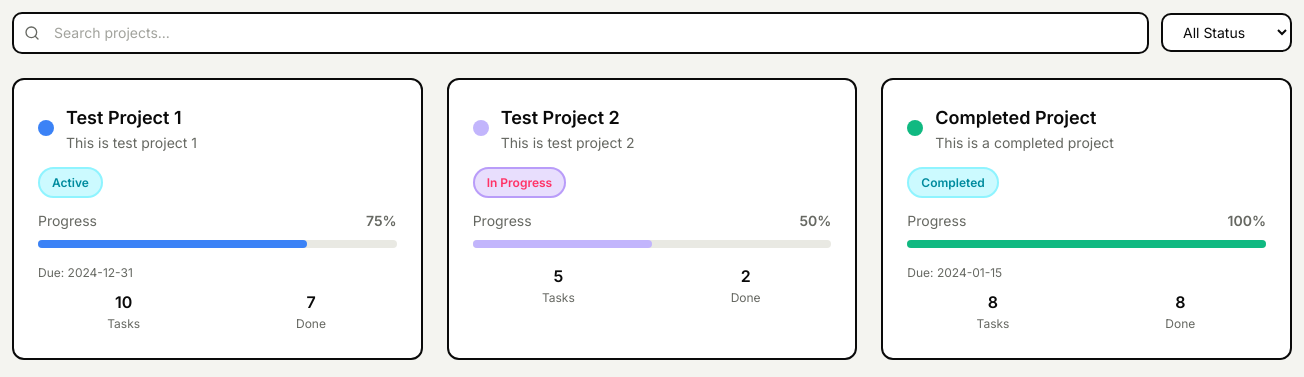
Scenario: ProjectsList Component › Status Filter › should filter projects by status when status filter changes
The width and height of the screenshot is (1304, 377).
Expected: the heading "Test Project 1" is shown, x1=66 y1=104 x2=197 y2=132
Expected: the heading "Test Project 2" is shown, x1=501 y1=104 x2=635 y2=132
Note: Filter by "Active" status
Select "Active" in the dropdown showing "All Status" at coordinates (1226, 33), box x1=1161 y1=13 x2=1292 y2=52
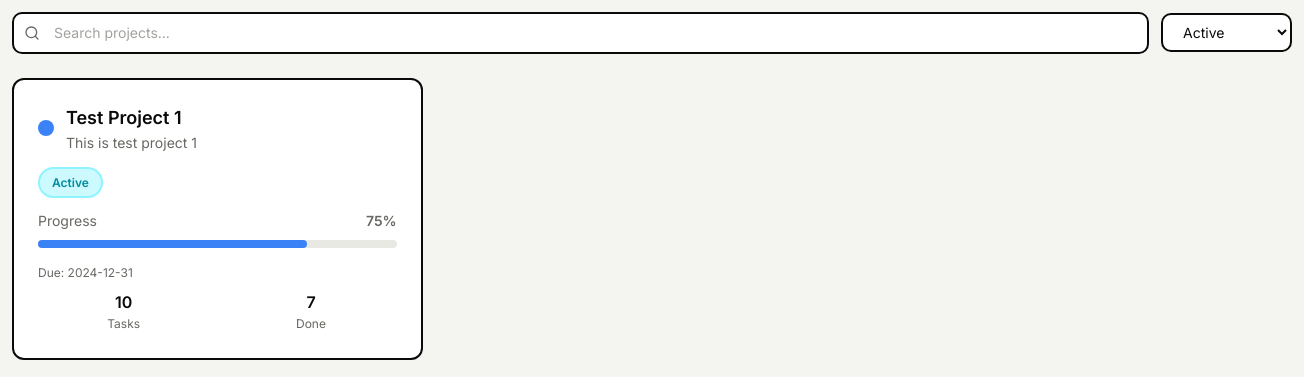
Expected: the heading "Test Project 1" is shown, x1=66 y1=104 x2=197 y2=132
Expected: the heading "Test Project 2" is gone
Expected: the heading "Completed Project" is gone
